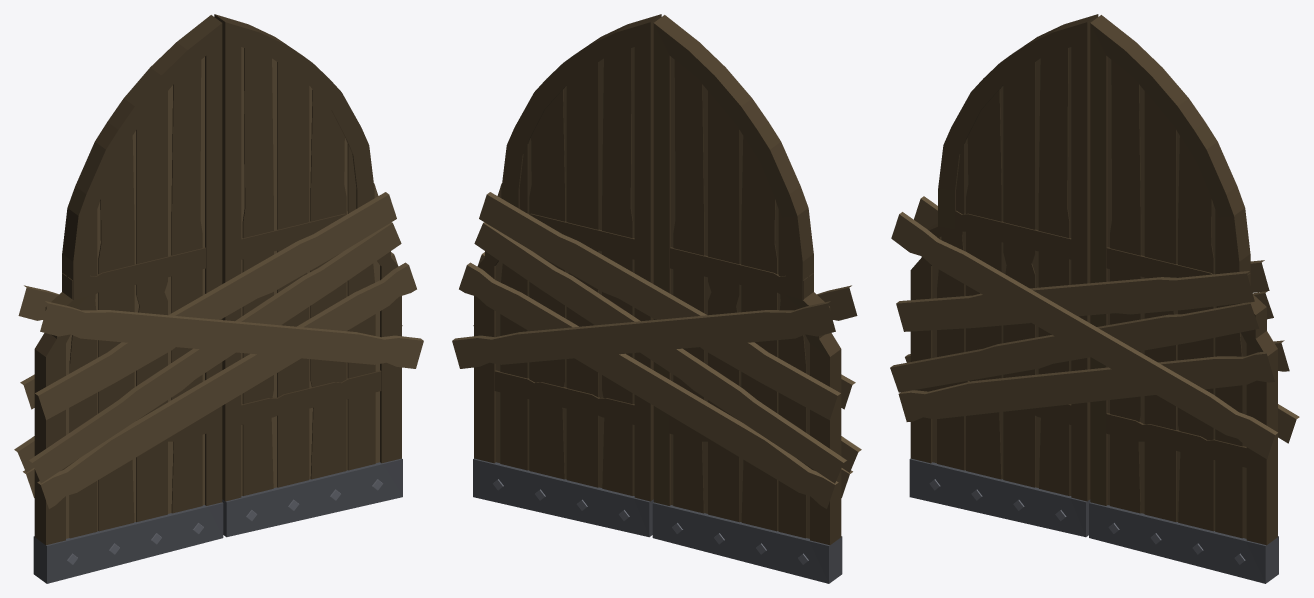
The model's file is Doors_GothicArch_Covered.glb.
The picture shows the model from 3 angles, left to right: view 1: azimuth 30°, elevation 25°; view 2: azimuth 150°, elevation 25°; view 3: azimuth 330°, elevation 25°; orthographic projection.
Parts seen in each view (by area): view 1: Doors_GothicArch_Covered; view 2: Doors_GothicArch_Covered; view 3: Doors_GothicArch_Covered.
Part boxes in pixels (x1,y1,x2,y2): Doors_GothicArch_Covered: (14, 14, 423, 583); Doors_GothicArch_Covered: (452, 14, 861, 583); Doors_GothicArch_Covered: (890, 14, 1299, 583).
Size of the model in its own units: 252 by 321 by 27.89.
